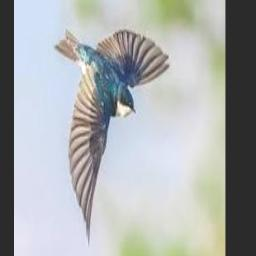Swallow: (54, 26, 170, 246)
